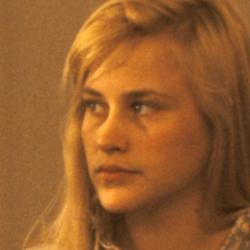face: (37, 1, 250, 236)
